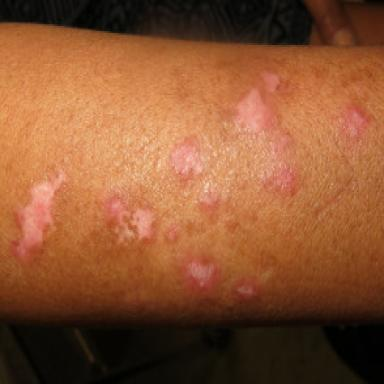Lupus-Erythematosus-Chronicus-Discoides: (10, 171, 66, 262), (259, 130, 299, 195), (103, 196, 155, 242), (236, 88, 274, 133), (170, 138, 204, 179), (187, 258, 218, 289), (344, 104, 369, 139), (199, 189, 219, 222), (235, 280, 259, 299), (262, 72, 280, 92), (167, 224, 179, 241)
